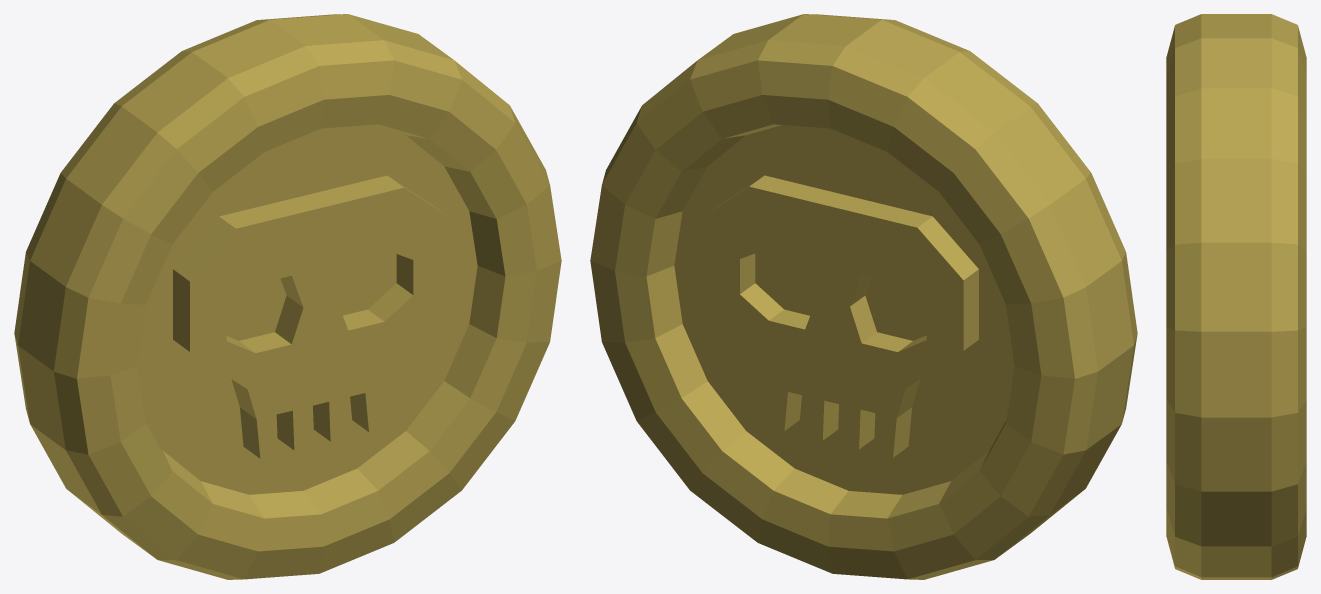
File: Coin_Skull.glb
The picture shows the model from 3 angles, left to right: view 1: azimuth 30°, elevation 25°; view 2: azimuth 150°, elevation 25°; view 3: azimuth 270°, elevation 25°; orthographic projection. The views are drawn at different scales.
Parts seen in each view (by area): view 1: Coin_Skull_Cylinder.016; view 2: Coin_Skull_Cylinder.016; view 3: Coin_Skull_Cylinder.016.
Boxes of the visible parts, box(x1,y1,x2,y2) form: Coin_Skull_Cylinder.016: box(14, 14, 561, 579); Coin_Skull_Cylinder.016: box(590, 14, 1137, 579); Coin_Skull_Cylinder.016: box(1166, 14, 1306, 579).
Size of the model in its own units: 0.7367 by 0.7376 by 0.1812.
